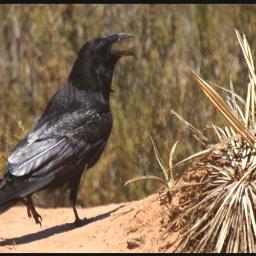Crow: (0, 33, 135, 229)
